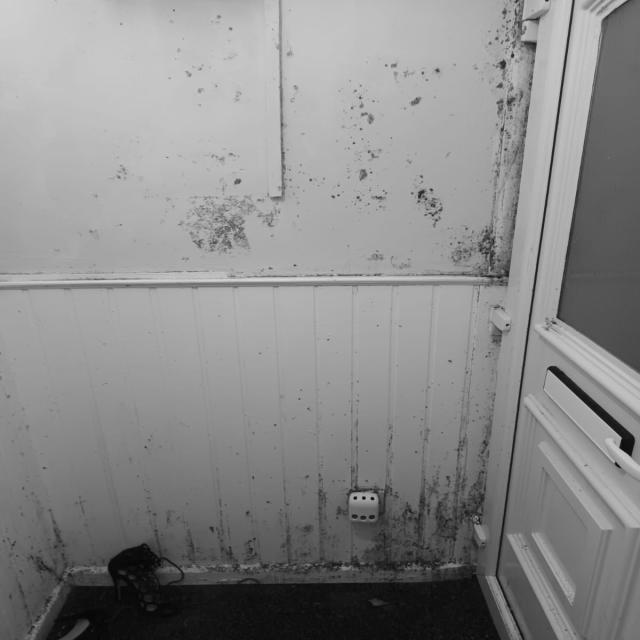stain marks: (0, 332, 540, 640), (0, 0, 553, 297)
